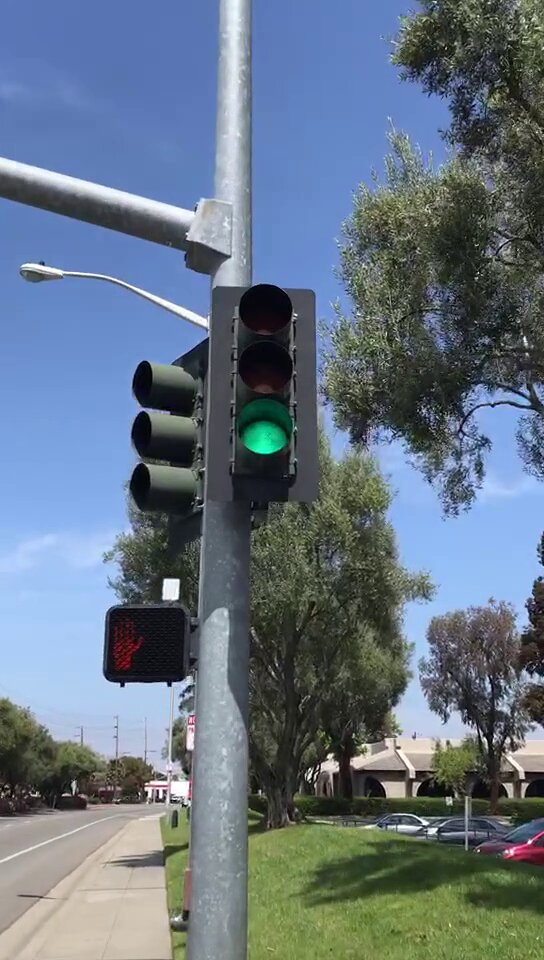green_light: (211, 285, 315, 494)
